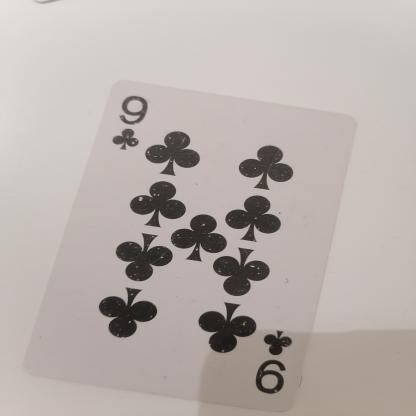9C: (247, 326, 307, 400), (106, 88, 168, 156)
